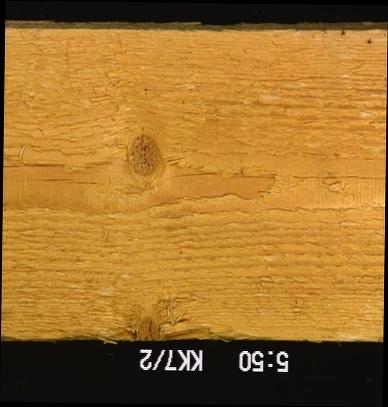split: (292, 174, 384, 181), (26, 175, 75, 183)
wave: (60, 323, 258, 342)
